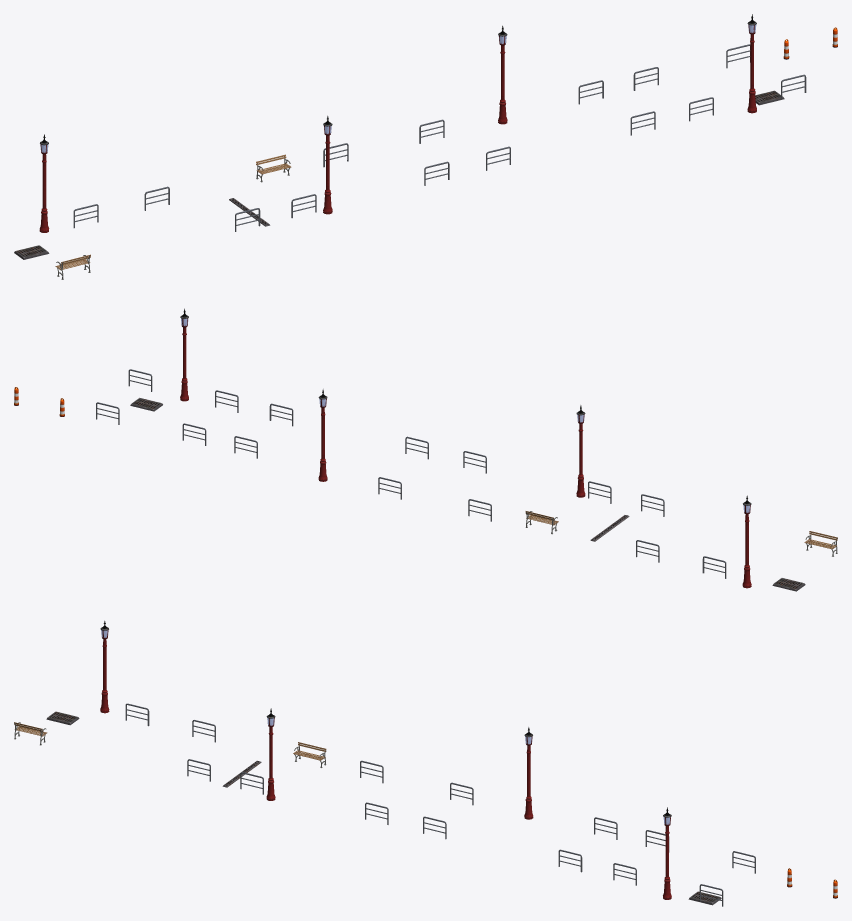
File: Pole01.fbx
The picture shows the model from 3 angles, top to bottom: view 1: azimuth 30°, elevation 25°; view 2: azimuth 150°, elevation 25°; view 3: azimuth 330°, elevation 25°; orthographic projection. The views are drawn at different scales.
Parts seen in each view (by area): view 1: MeshBaker__9__mesh_mesh; view 2: MeshBaker__9__mesh_mesh; view 3: MeshBaker__9__mesh_mesh.
Boxes of the visible parts, box(x1,y1,x2,y2) form: MeshBaker__9__mesh_mesh: box(14, 14, 837, 279); MeshBaker__9__mesh_mesh: box(14, 308, 837, 591); MeshBaker__9__mesh_mesh: box(14, 620, 837, 906).
Size of the model in its own units: 4634 by 546 by 580.
1 material, 1 textured.
